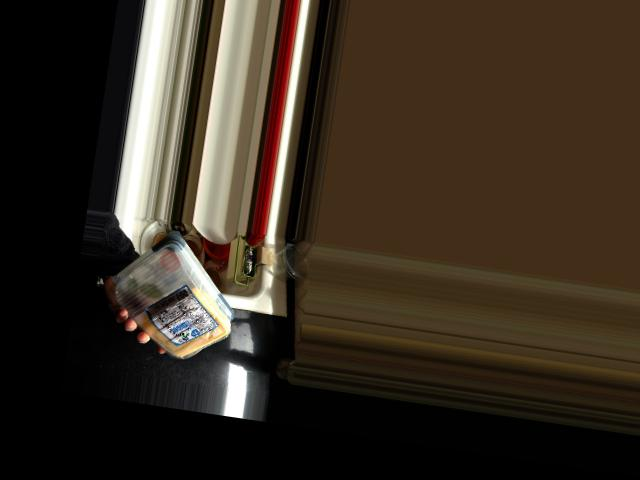cheese: (105, 241, 243, 358)
